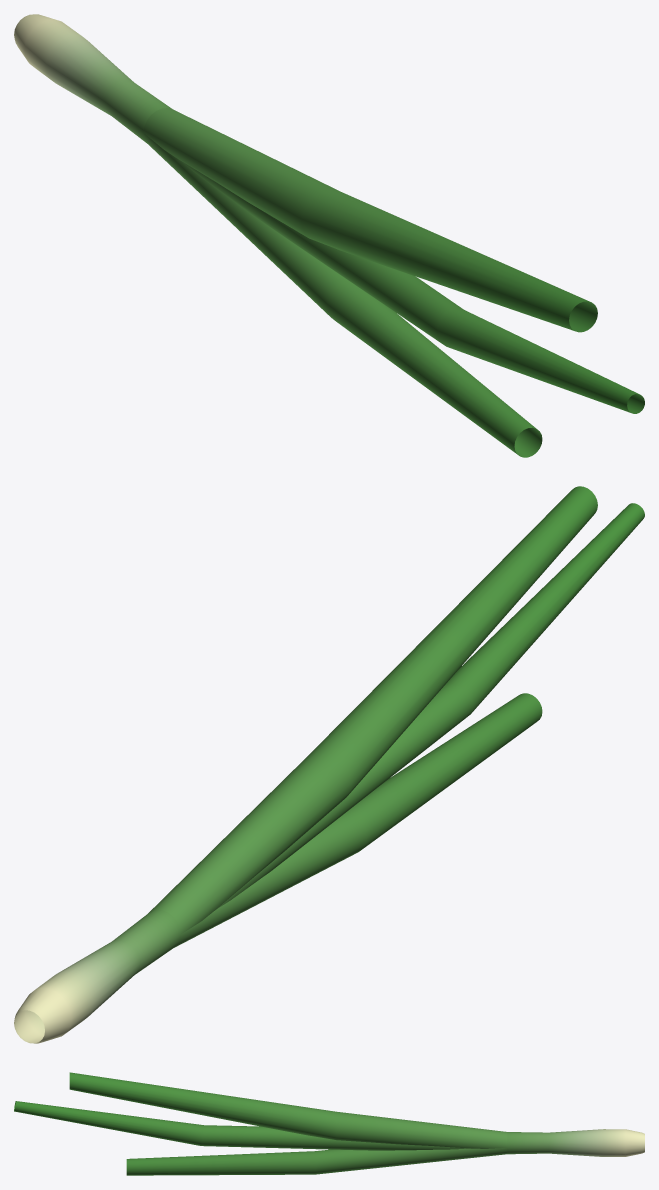
The model's file is chives_2 1.fbx.
The picture shows the model from 3 angles, top to bottom: view 1: azimuth 30°, elevation 25°; view 2: azimuth 150°, elevation 25°; view 3: azimuth 270°, elevation 25°; orthographic projection. The views are drawn at different scales.
Parts seen in each view (by area): view 1: Chives_2; view 2: Chives_2; view 3: Chives_2.
Boxes of the visible parts, x1,y1,x2,y2 form: Chives_2: (14,14,644,457); Chives_2: (14,486,644,1043); Chives_2: (14,1072,644,1175).
Size of the model in its own units: 989 by 46.49 by 176.
